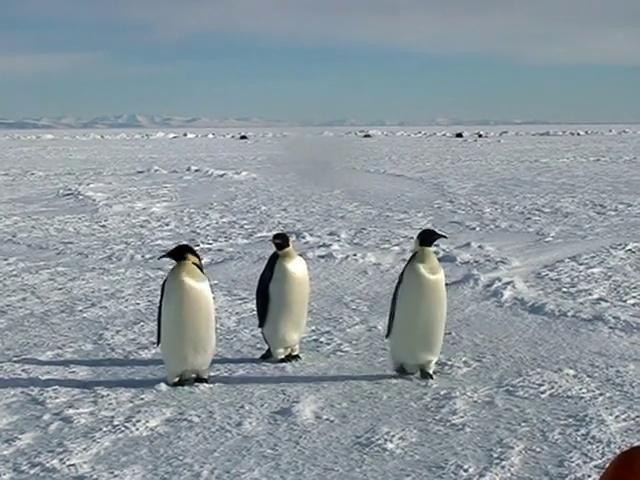animal: (387, 230, 449, 380)
